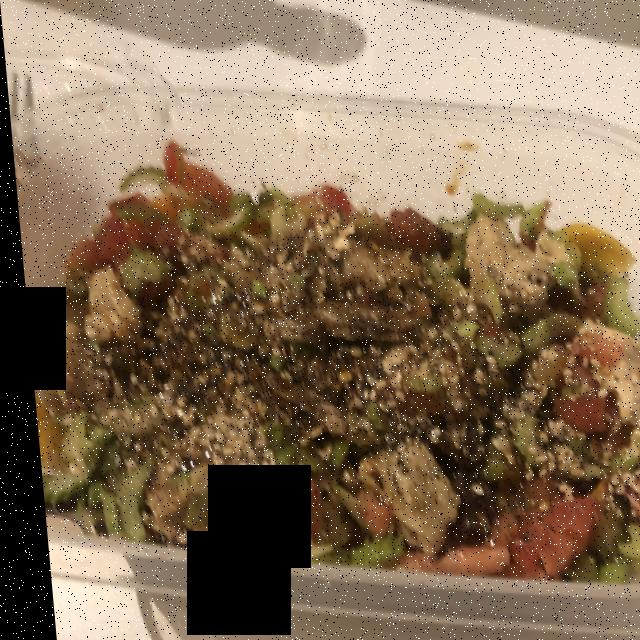sesame-seeds: (60, 227, 635, 530)
